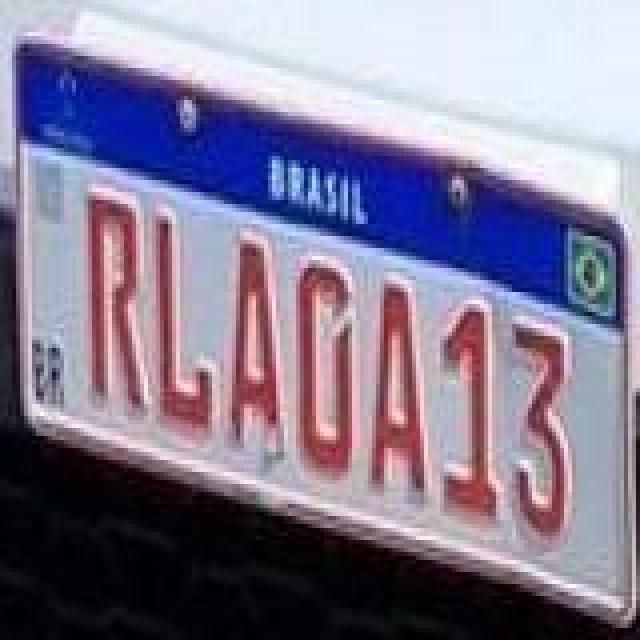1: (442, 292, 502, 524)
3: (514, 316, 574, 548)
A: (368, 276, 432, 500), (226, 240, 286, 464)
D: (292, 256, 356, 480)
L: (152, 208, 216, 440)
R: (82, 192, 150, 416)
